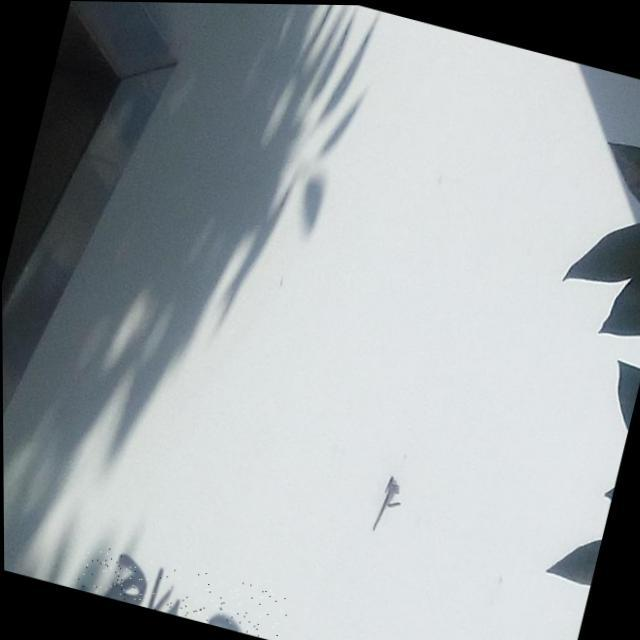-: (74, 541, 292, 640)
